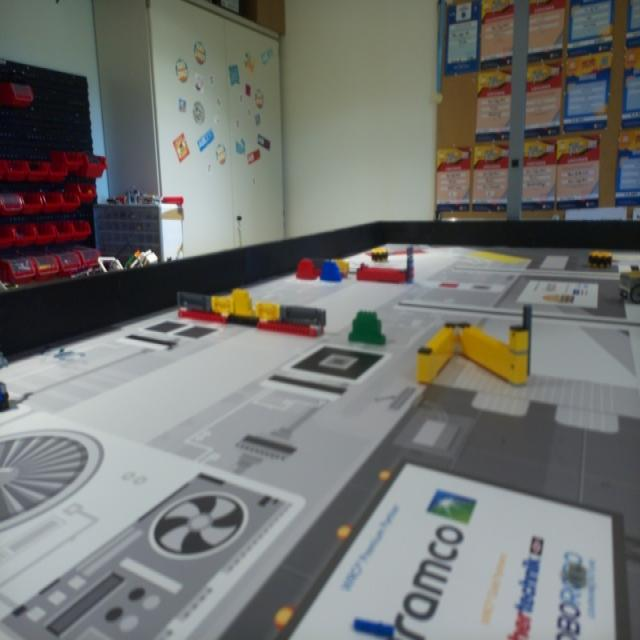blau: (319, 263, 342, 282)
gruen: (349, 309, 386, 347)
rot: (294, 258, 319, 281)
yellow: (228, 290, 253, 313)
